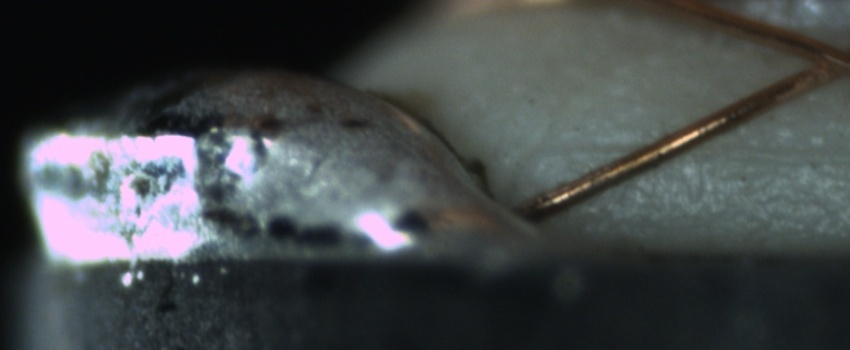CL: (791, 34, 850, 89)
DL: (547, 114, 850, 178)
